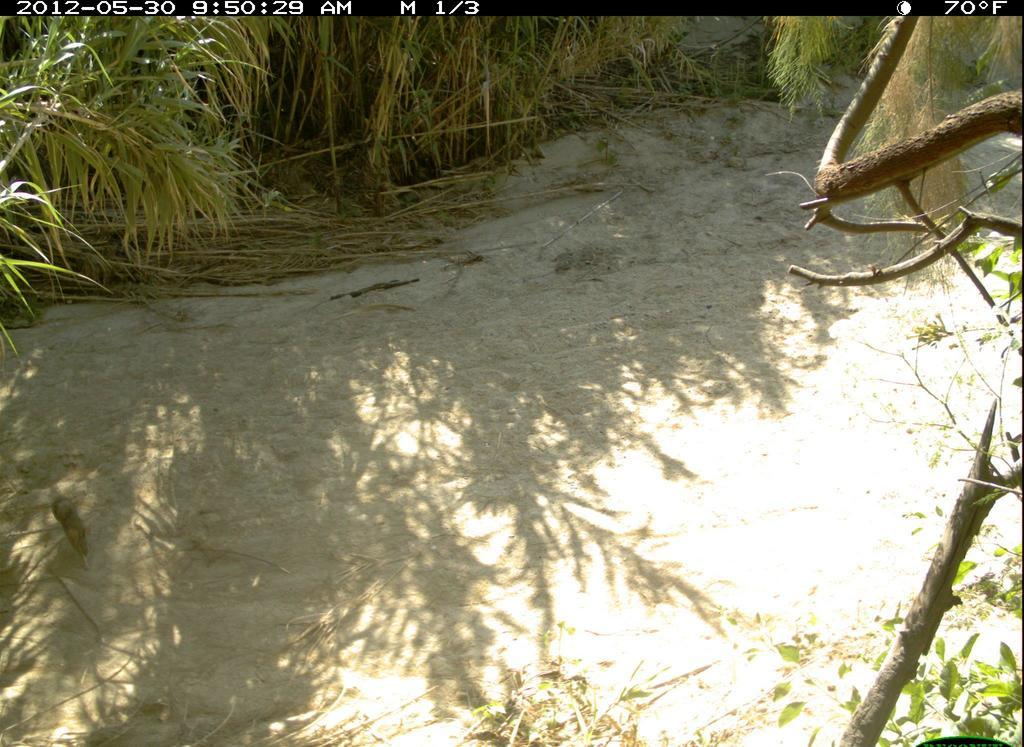rabbit: (47, 478, 111, 579)
